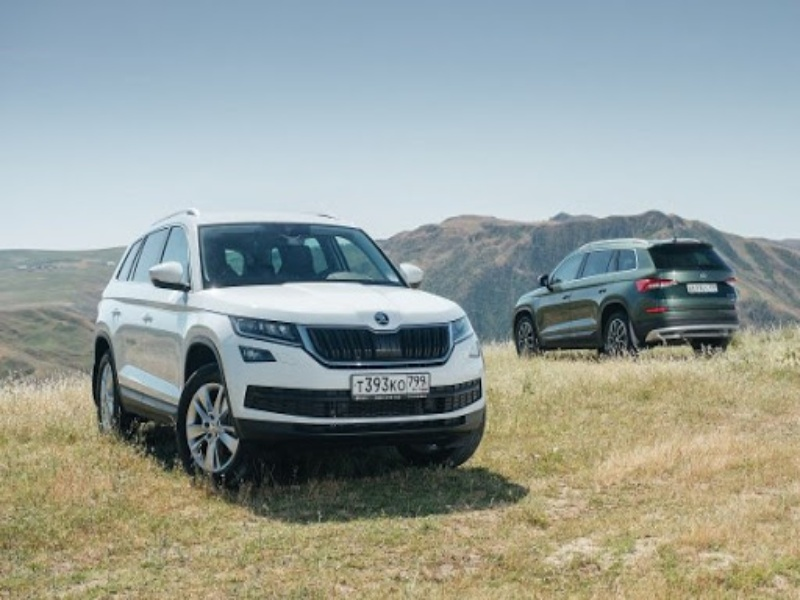car: (92, 207, 486, 484), (513, 237, 737, 360)
plate: (349, 373, 431, 396), (686, 283, 718, 293)
